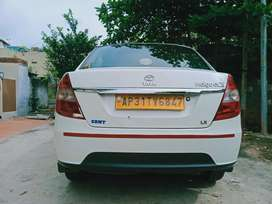AP31TV6847: (115, 94, 184, 110)
